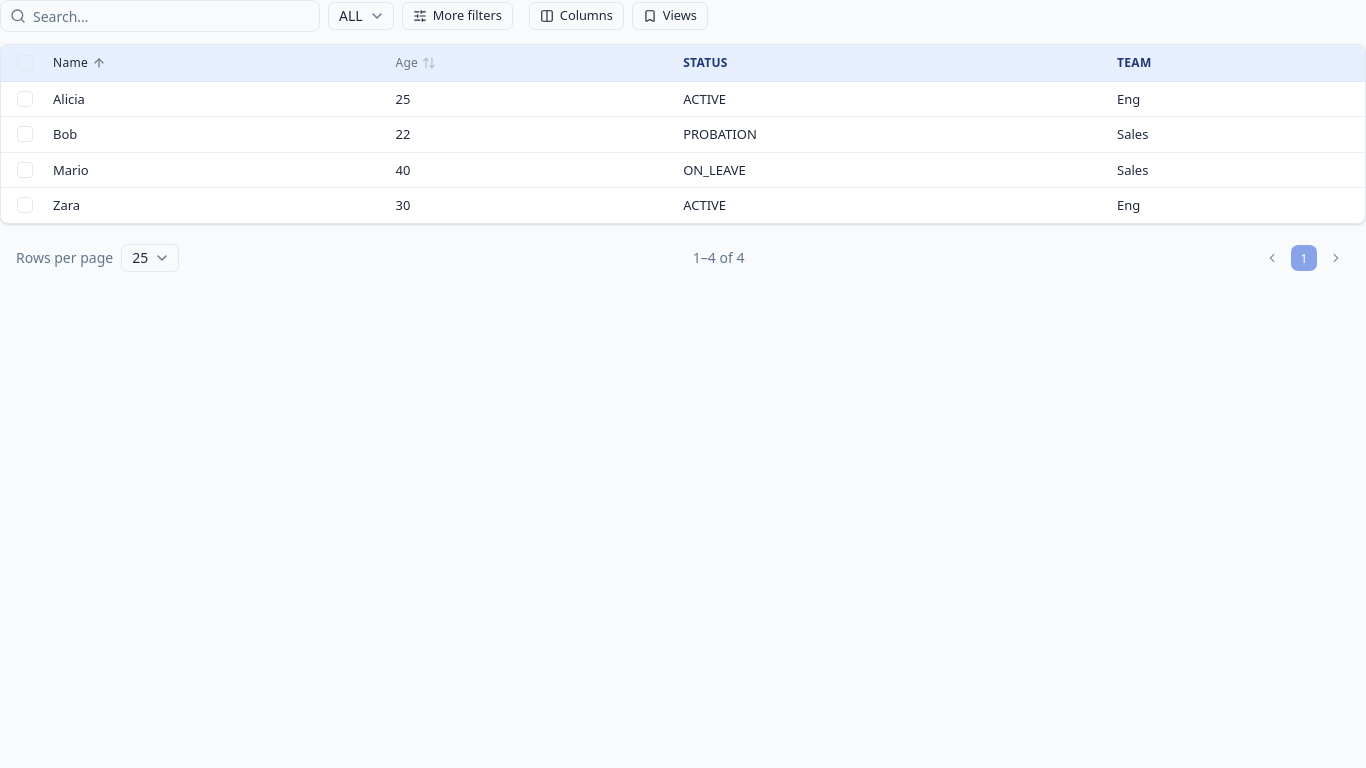
Scenario: HrisDataTable › applies an advanced filter from the More filters surface
Click the button "More filters": coordinates (457, 16) left=402, top=2, right=513, bottom=30
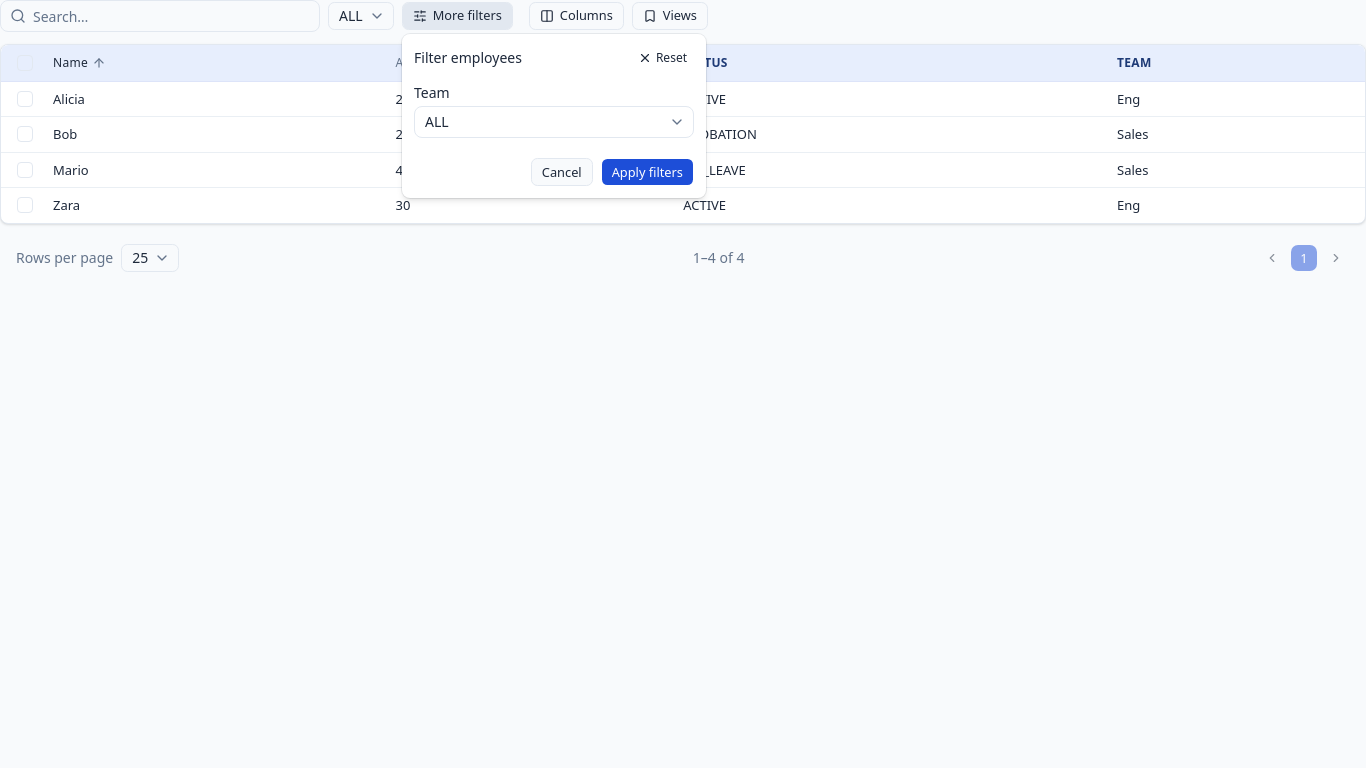
Click the dropdown named "Team": coordinates (437, 122) left=414, top=106, right=694, bottom=138
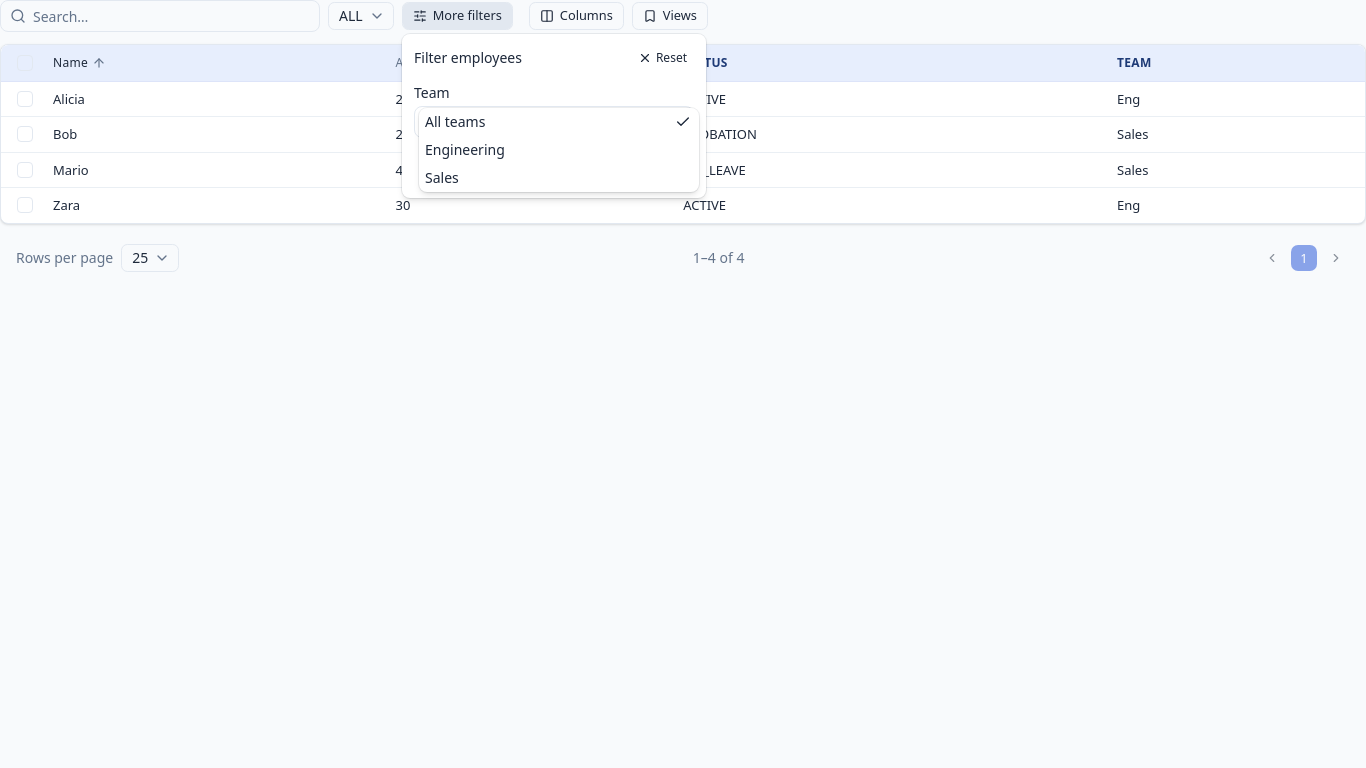
Click the option "Engineering": coordinates (465, 150) left=425, top=140, right=505, bottom=159
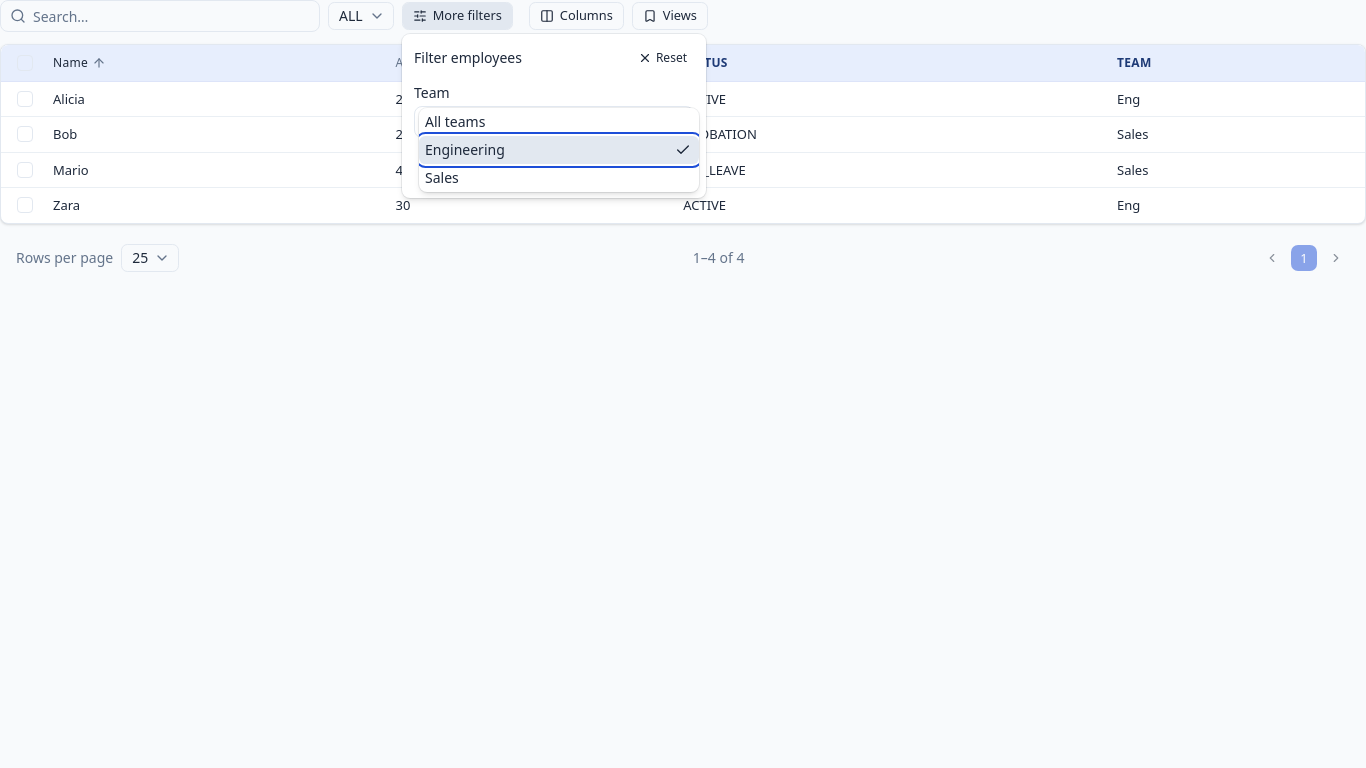
Click the button "Apply filters": coordinates (647, 172) left=601, top=158, right=694, bottom=186
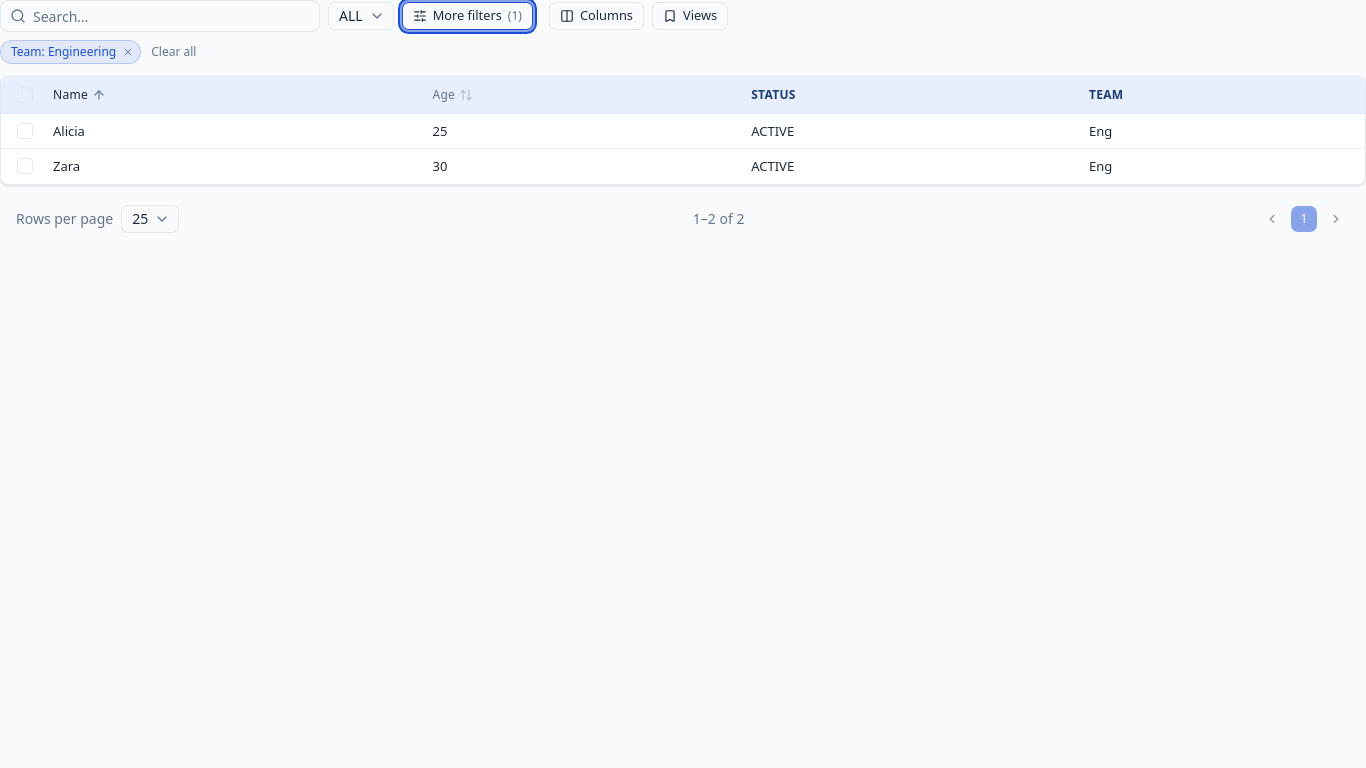
Expected: the text "Zara" is shown, left=41, top=149, right=420, bottom=184
Expected: the text "Bob" is gone
Expected: the text "Team: Engineering" is shown, left=0, top=40, right=141, bottom=64
